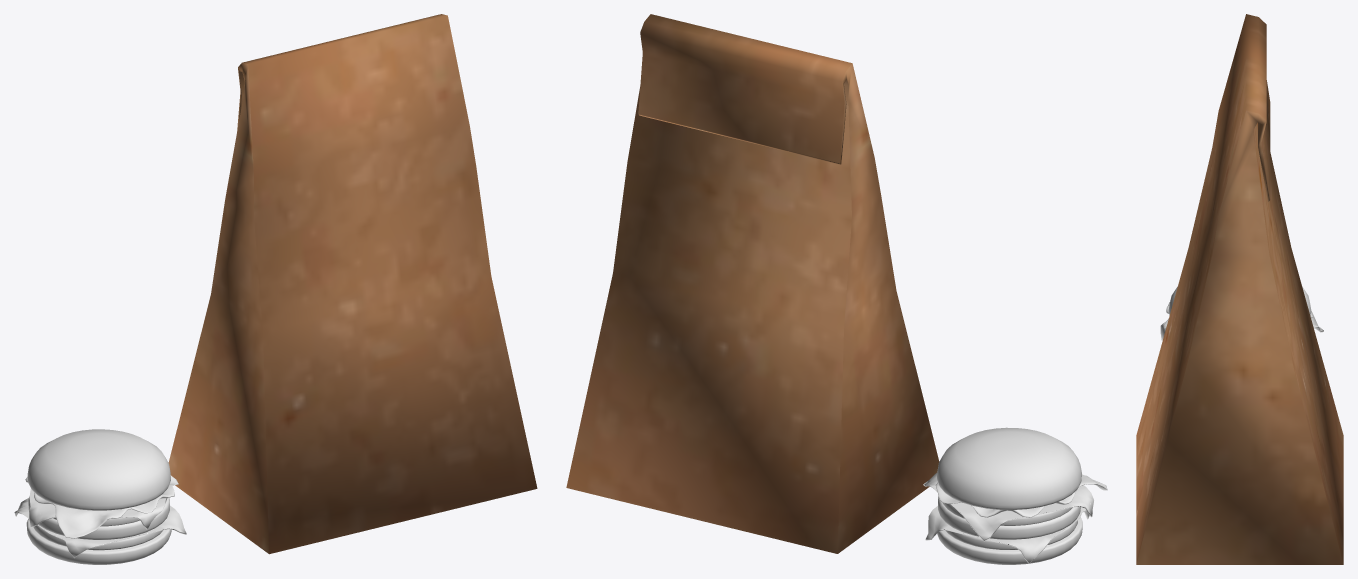
The model's file is burger.fbx.
3 renders of one model, left to right at view 1: azimuth 30°, elevation 25°; view 2: azimuth 150°, elevation 25°; view 3: azimuth 270°, elevation 25°, orthographic.
Parts seen in each view (by area): view 1: Cube.002, Circle.002, Circle, Retopo_Cube.002, Cube, Cylinder.001, Cube.001, Cylinder; view 2: Cube.002, Circle.002, Circle, Cube.001, Cylinder.001, Cube, Retopo_Cube.002, Cylinder; view 3: Cube.002.
Boxes of the visible parts, x1=… form: Cube.002: x1=168, y1=14, x2=537, y2=554; Circle.002: x1=27, y1=429, x2=170, y2=510; Circle: x1=26, y1=518, x2=171, y2=564; Retopo_Cube.002: x1=25, y1=475, x2=178, y2=538; Cube: x1=14, y1=498, x2=186, y2=557; Cylinder.001: x1=28, y1=496, x2=169, y2=539; Cube.001: x1=29, y1=488, x2=165, y2=529; Cylinder: x1=33, y1=525, x2=162, y2=550; Cube.002: x1=566, y1=14, x2=939, y2=553; Circle.002: x1=937, y1=427, x2=1081, y2=509; Circle: x1=937, y1=517, x2=1082, y2=564; Cube.001: x1=923, y1=473, x2=1093, y2=541; Cylinder.001: x1=938, y1=497, x2=1080, y2=539; Cube: x1=925, y1=506, x2=1089, y2=563; Retopo_Cube.002: x1=935, y1=474, x2=1107, y2=517; Cylinder: x1=945, y1=520, x2=1077, y2=549; Cube.002: x1=1136, y1=14, x2=1343, y2=564.
Size of the model in its own units: 782 by 714 by 306.
